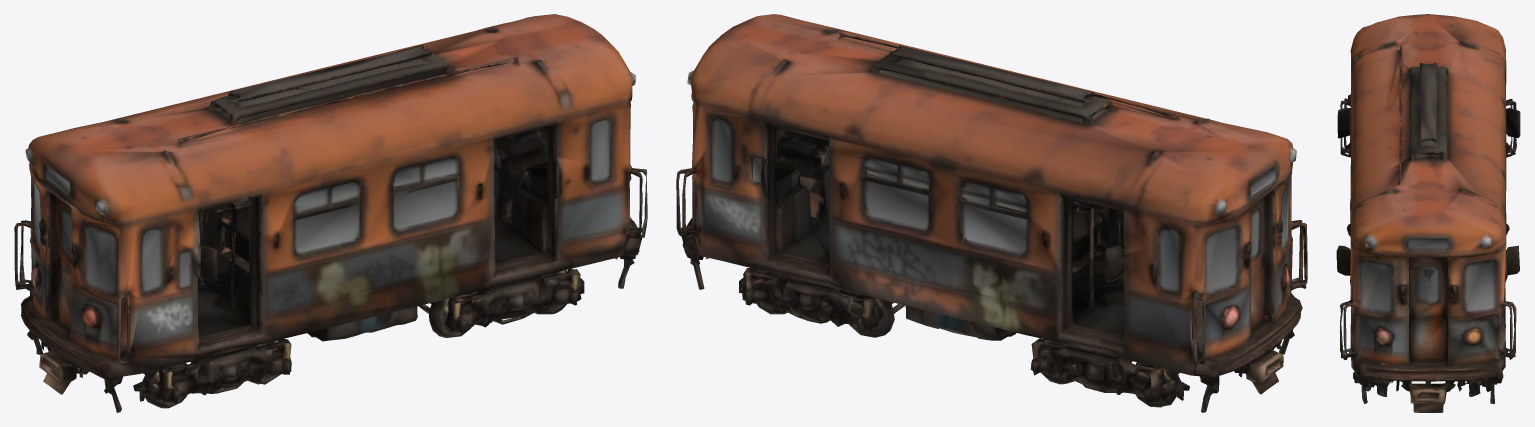
The model's file is train2-final.glb.
3 renders of one model, left to right at view 1: azimuth 30°, elevation 25°; view 2: azimuth 150°, elevation 25°; view 3: azimuth 270°, elevation 25°, orthographic. The views are drawn at different scales.
Visible parts, largest first — view 1: Mesh1.0; view 2: Mesh1.0; view 3: Mesh1.0.
Part boxes in pixels (x1,y1,x2,y2): Mesh1.0: [14, 14, 647, 412]; Mesh1.0: [676, 14, 1307, 412]; Mesh1.0: [1336, 14, 1520, 412].
Bounding box in the file's own units: 1.92 × 0.8758 × 0.6677.
1 material, 1 textured.
